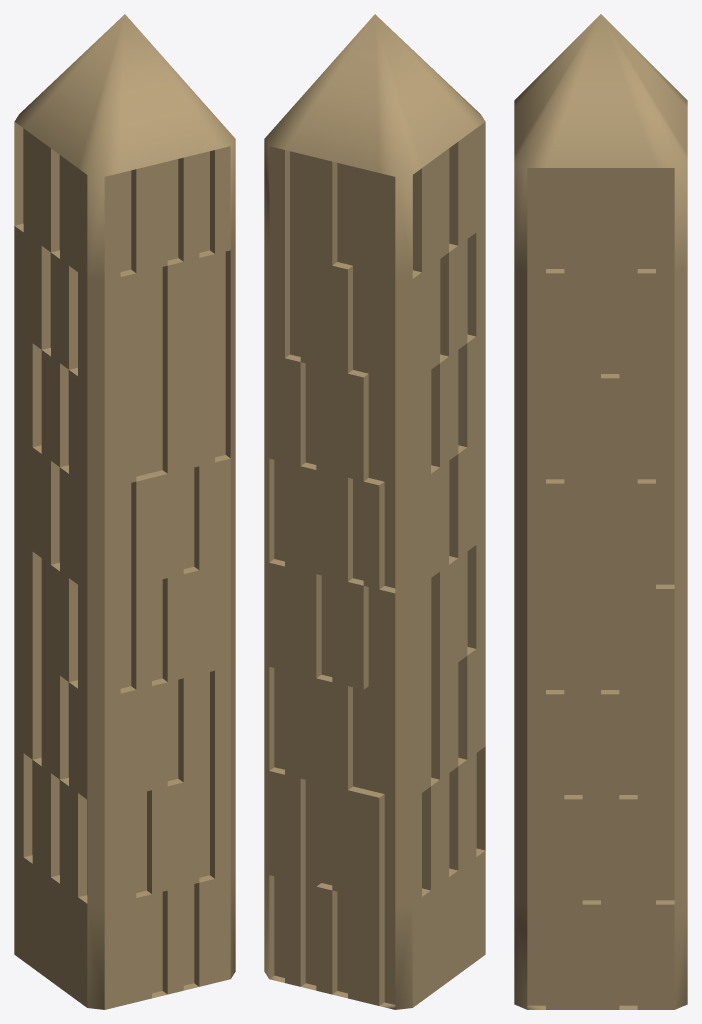
File: Obelisk_Koltz_2_V1.fbx
3 renders of one model, left to right at view 1: azimuth 30°, elevation 25°; view 2: azimuth 150°, elevation 25°; view 3: azimuth 270°, elevation 25°, orthographic.
Parts seen in each view (by area): view 1: Obelisk_2; view 2: Obelisk_2; view 3: Obelisk_2.
Part boxes in pixels (x1=…): Obelisk_2: x1=14, y1=14, x2=235, y2=1009; Obelisk_2: x1=264, y1=14, x2=485, y2=1009; Obelisk_2: x1=514, y1=14, x2=687, y2=1009.
Size of the model in its own units: 4.6 by 28.13 by 4.6.
